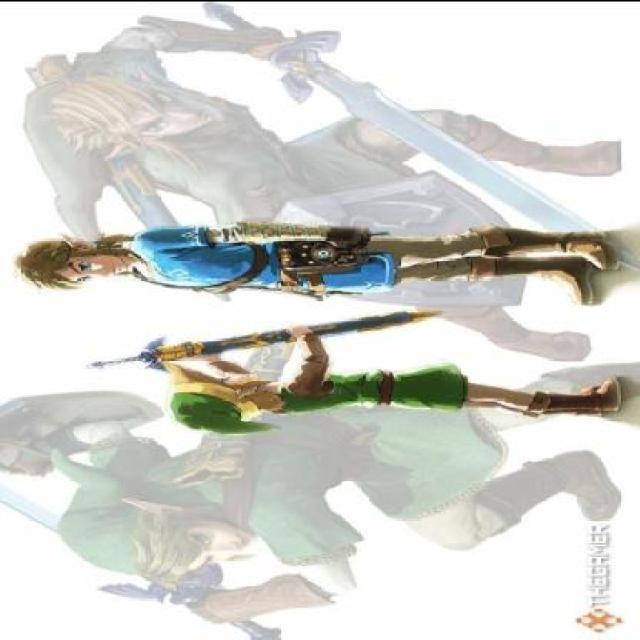weapon: (87, 308, 456, 370)
